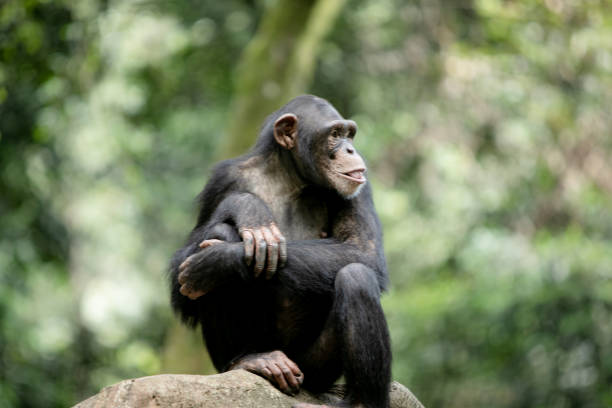chimpanzee: (271, 97, 379, 209)
